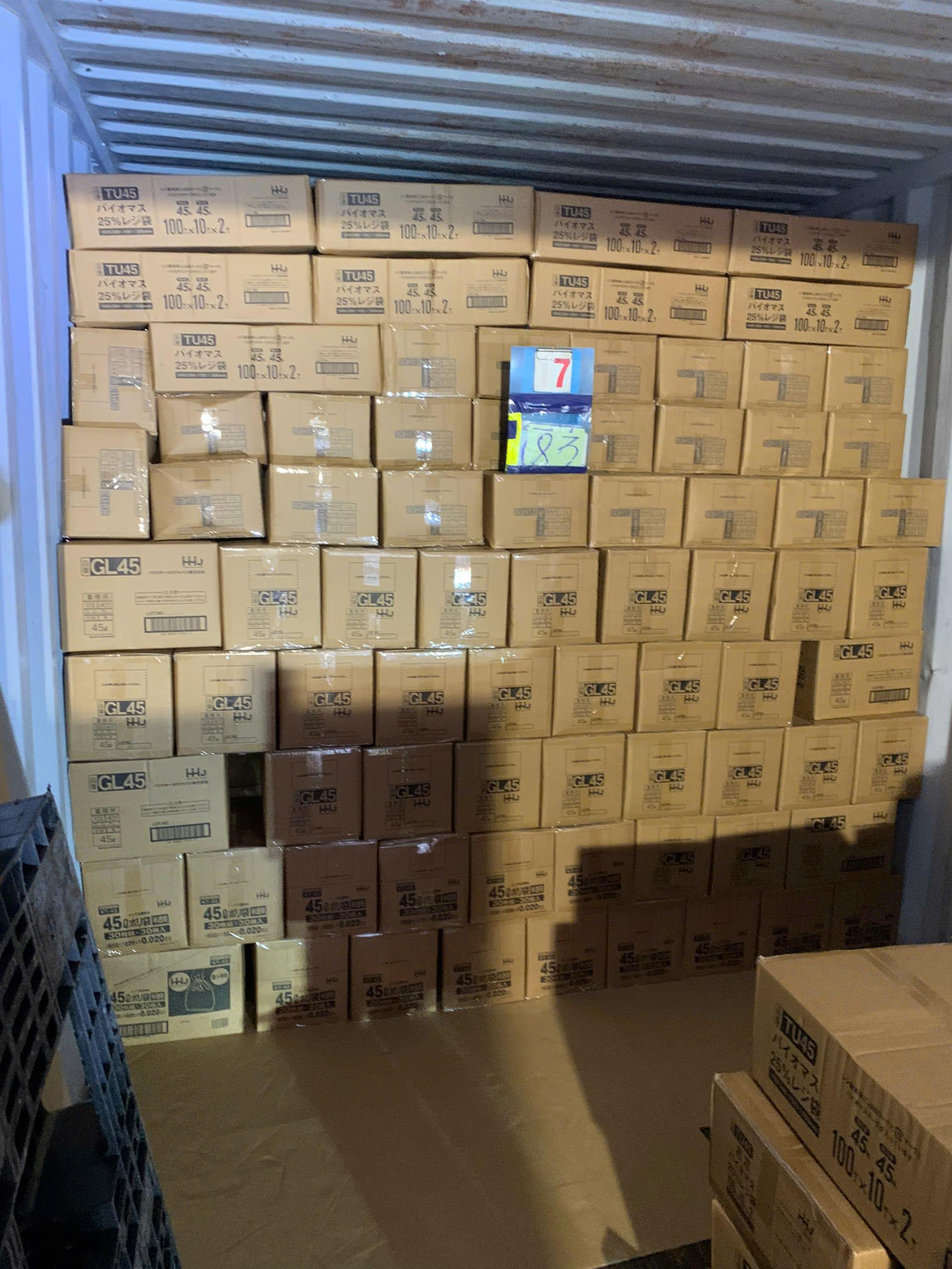carton: (66, 172, 315, 251), (64, 249, 314, 327), (58, 540, 225, 652), (524, 257, 730, 341), (150, 323, 379, 398), (66, 754, 226, 860), (317, 180, 534, 255), (313, 256, 532, 328), (724, 208, 923, 287), (540, 193, 733, 274), (99, 941, 241, 1046), (729, 274, 916, 348), (65, 652, 175, 764), (795, 635, 926, 727), (274, 645, 380, 750), (171, 652, 279, 755), (79, 854, 190, 954), (58, 424, 153, 539), (218, 545, 319, 650), (371, 647, 468, 754), (249, 933, 350, 1032), (263, 746, 365, 844), (507, 544, 602, 649), (146, 458, 263, 542), (281, 838, 380, 937), (187, 846, 285, 946), (66, 326, 157, 432), (416, 550, 512, 650), (264, 463, 379, 546), (792, 805, 906, 885), (320, 549, 415, 644), (380, 469, 488, 550), (360, 745, 452, 839), (767, 549, 862, 640), (376, 835, 465, 932), (470, 396, 585, 470), (684, 551, 776, 642), (264, 392, 374, 468), (522, 910, 608, 1007), (486, 470, 590, 550), (599, 546, 690, 637), (349, 929, 436, 1024), (442, 918, 528, 1014), (153, 392, 266, 465), (539, 734, 624, 830), (636, 641, 724, 733), (464, 647, 557, 734), (774, 722, 861, 814), (701, 727, 789, 816), (457, 739, 540, 833), (469, 829, 550, 924), (372, 395, 472, 471), (381, 319, 482, 394), (848, 546, 933, 634), (622, 731, 703, 823), (479, 329, 576, 405), (630, 815, 711, 904), (549, 643, 631, 730), (851, 716, 933, 802), (829, 861, 908, 950), (550, 820, 628, 909), (680, 476, 773, 549), (769, 475, 864, 546), (737, 340, 831, 411), (681, 896, 757, 983), (605, 902, 676, 995), (716, 817, 797, 898), (858, 477, 950, 548), (588, 473, 676, 546), (740, 408, 830, 479), (756, 884, 837, 961), (718, 641, 794, 723), (655, 337, 742, 408), (822, 409, 909, 480), (656, 404, 742, 475), (822, 347, 913, 412), (577, 333, 654, 406), (584, 402, 654, 473)
